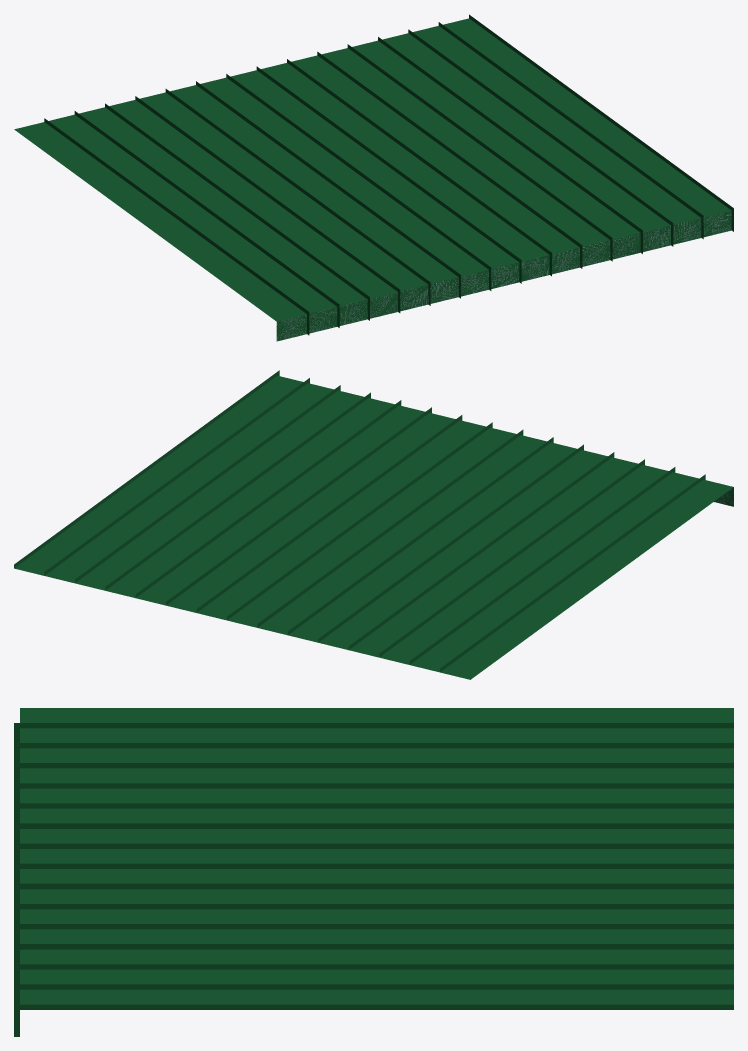
3 renders of one model, top to bottom at view 1: azimuth 30°, elevation 25°; view 2: azimuth 150°, elevation 25°; view 3: azimuth 270°, elevation 25°, orthographic. The views are drawn at different scales.
Visible parts, largest first — view 1: SketchUp (×2); view 2: SketchUp; view 3: SketchUp.
Part boxes in pixels (x1,y1,x2,y2): SketchUp (×2): (14, 14, 733, 341); SketchUp: (14, 370, 733, 679); SketchUp: (14, 708, 733, 1036).
Bounding box in the file's own units: 240 × 242 × 12.
